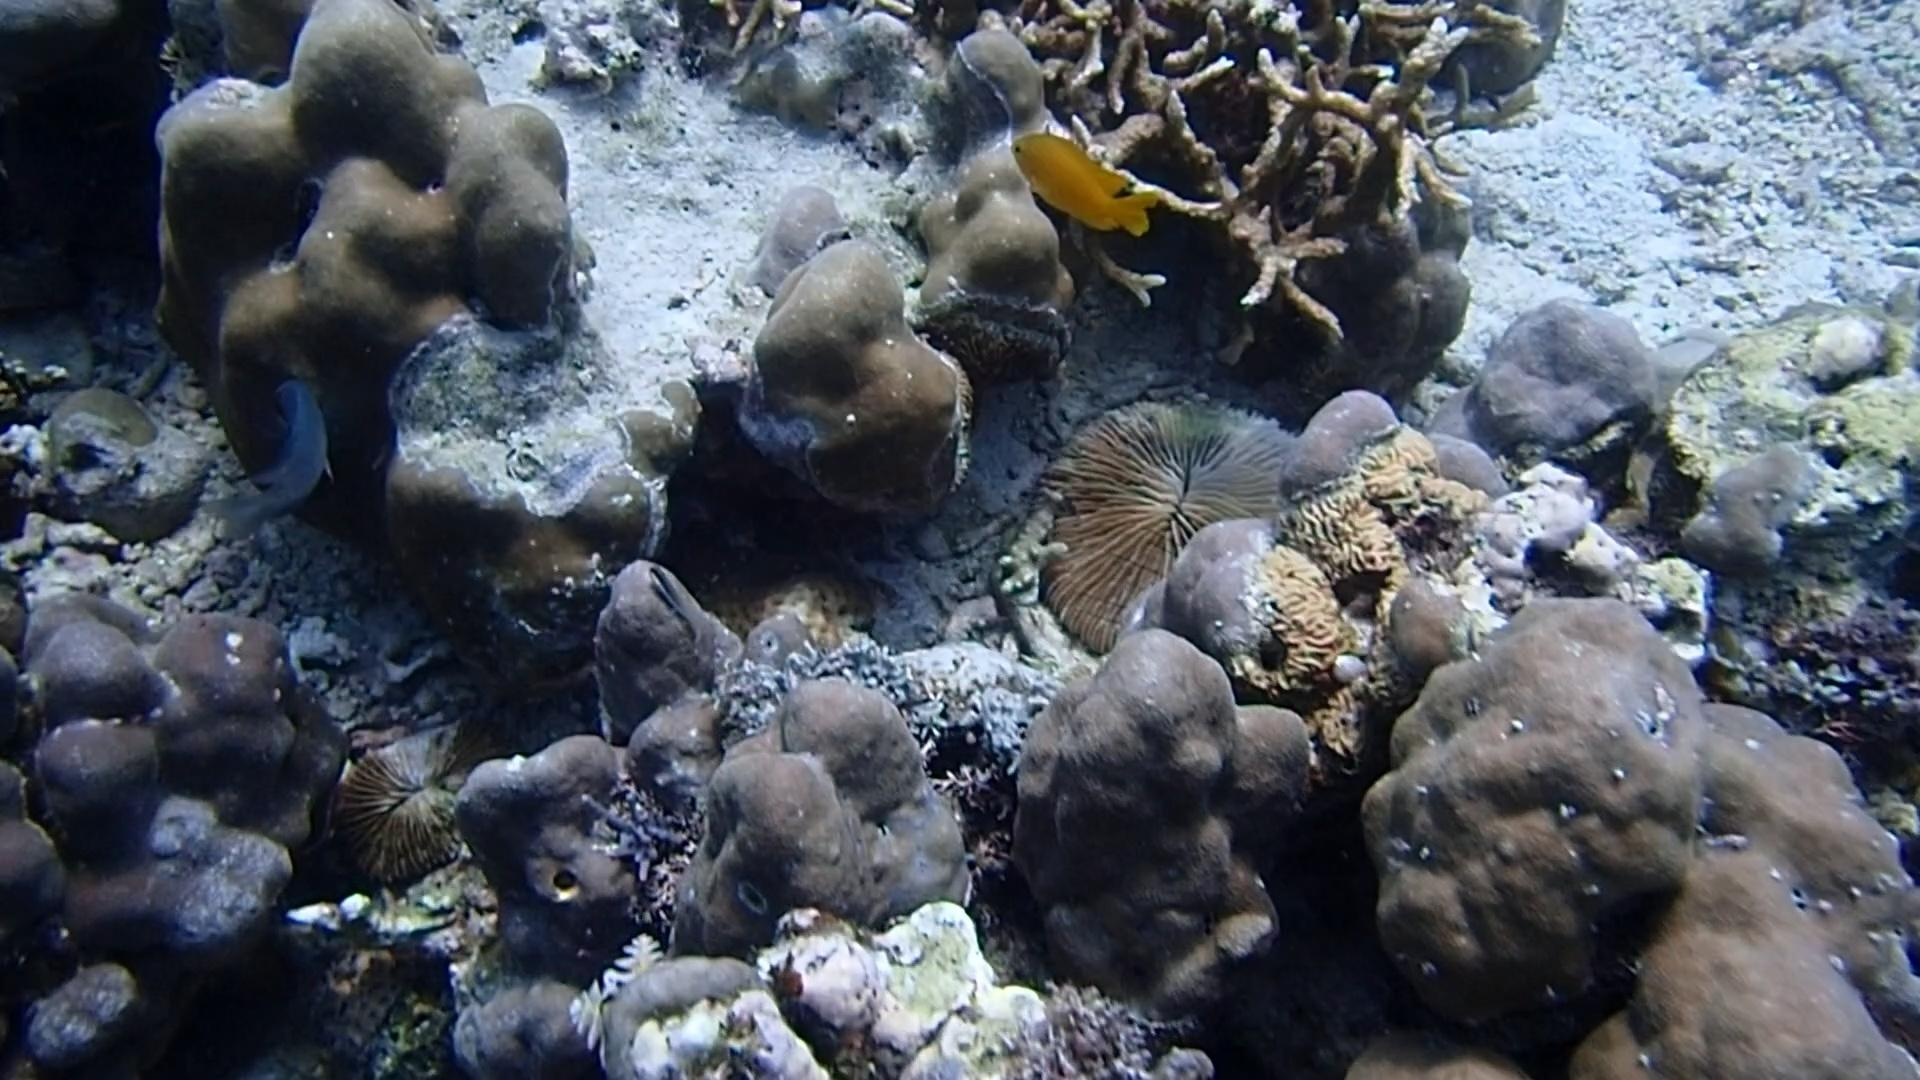Blue Fish Two: (195, 372, 356, 551)
Yellow Fish: (1004, 124, 1164, 249)
